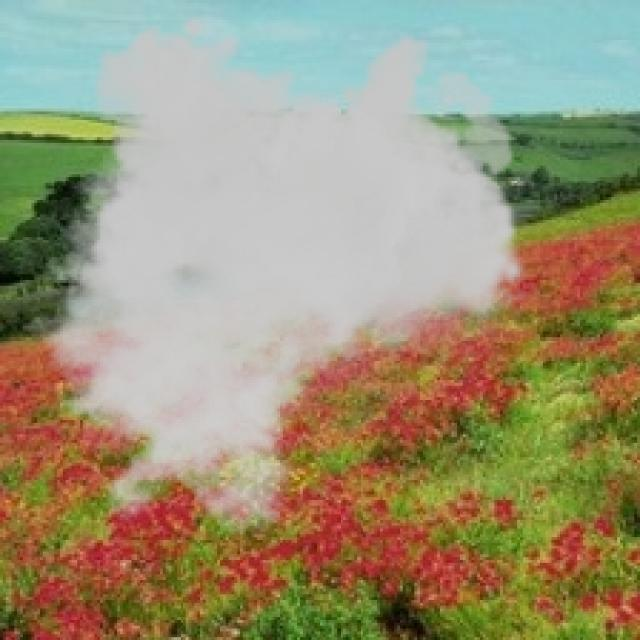Smoke: (2, 11, 528, 538)
